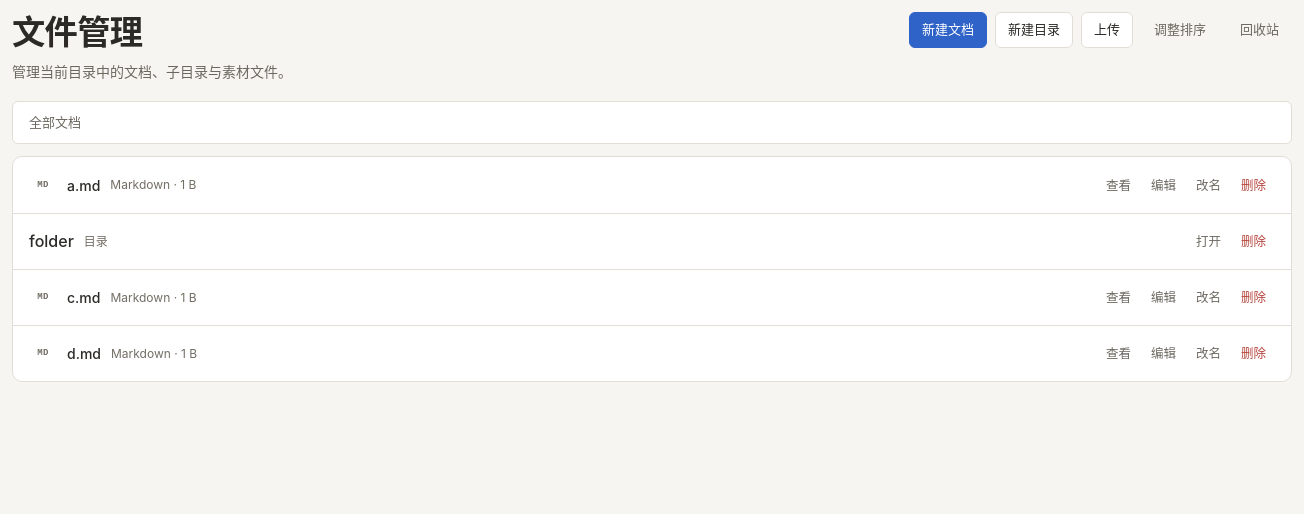
目录拖拽排序 › 保存失败时保留调整结果并可重试
Click the button with class "order-start".
click(1180, 30)  # box [1141,12,1219,48]
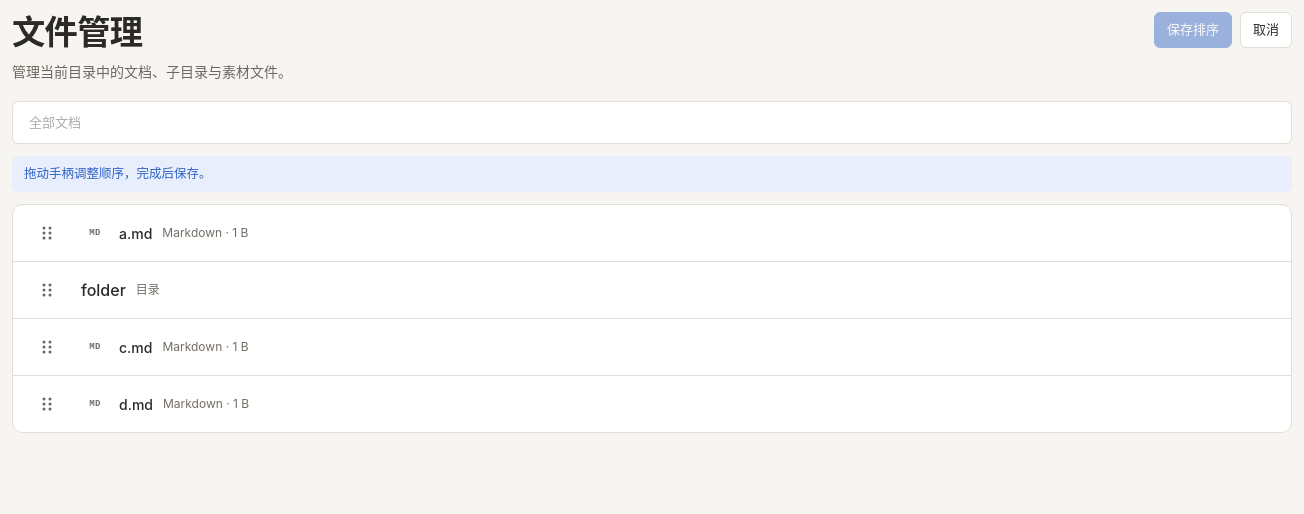
Press the mouse on the 1st button with class "order-handle" at (47, 233), box [29,215,65,251]
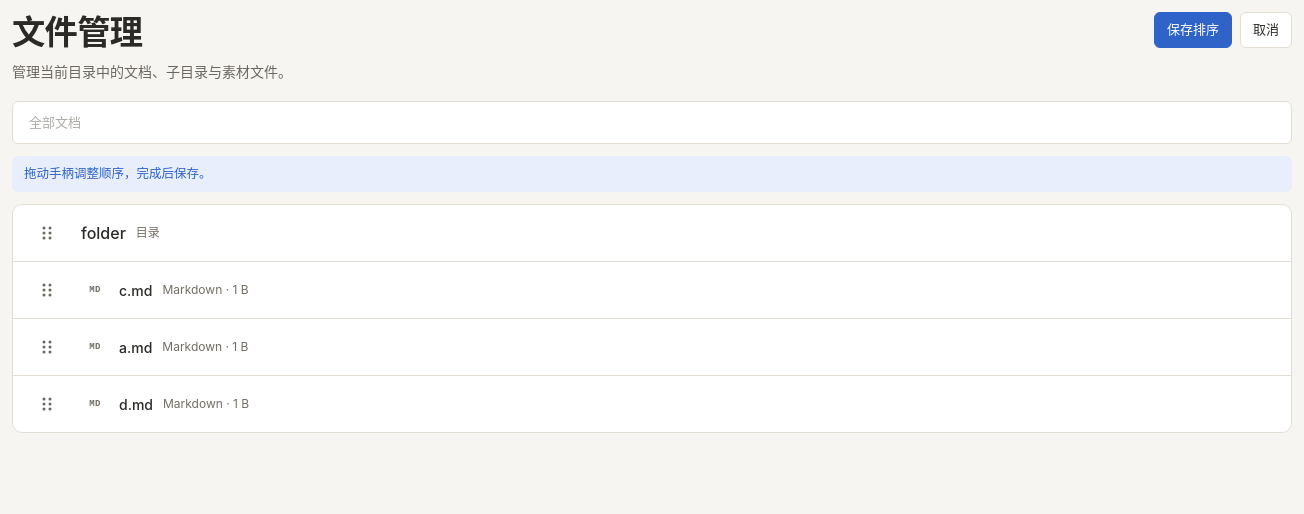
Click the button "保存排序".
click(1193, 30)  # box [1154,12,1232,48]
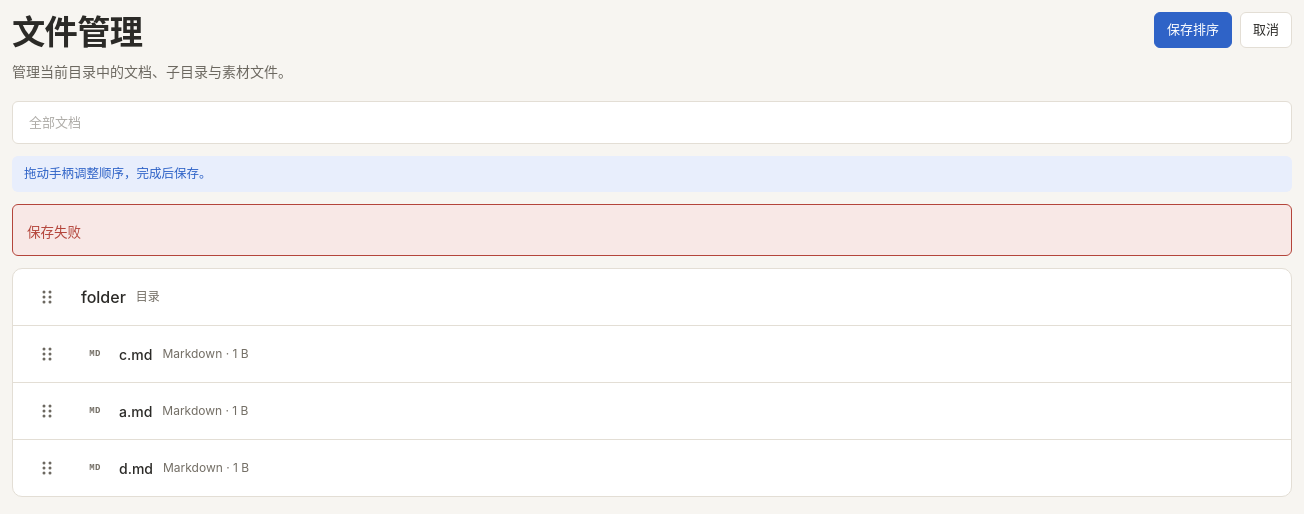
Check: the button "保存排序" is enabled
Check: the message "保存失败" is shown, box [12,204,1292,256]
Click the button "保存排序".
click(1193, 30)  # box [1154,12,1232,48]
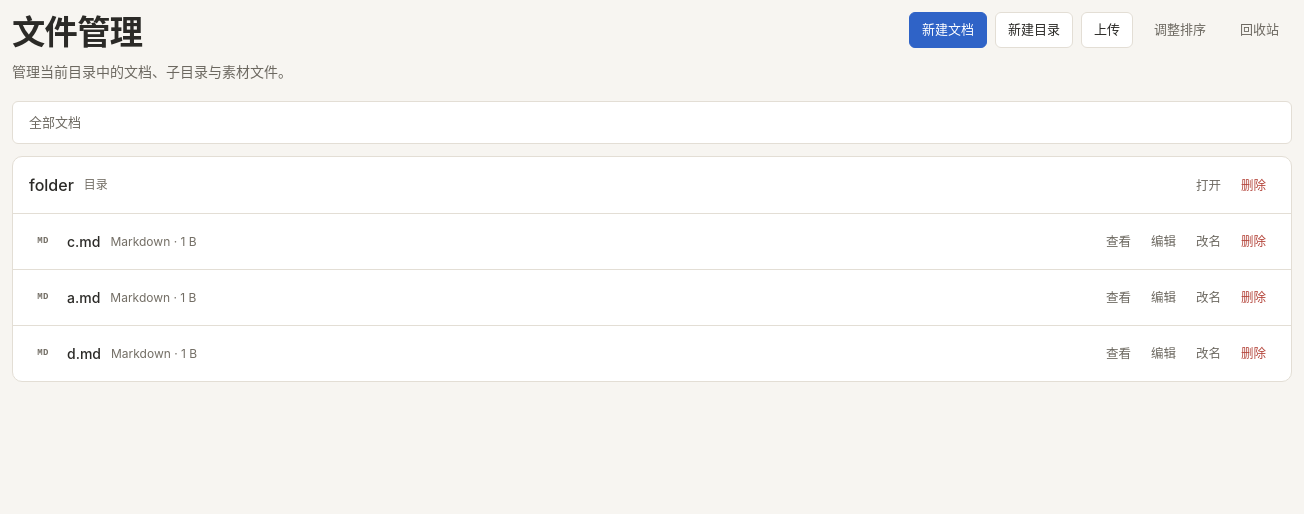
Check: the button with class "order-handle" is gone
